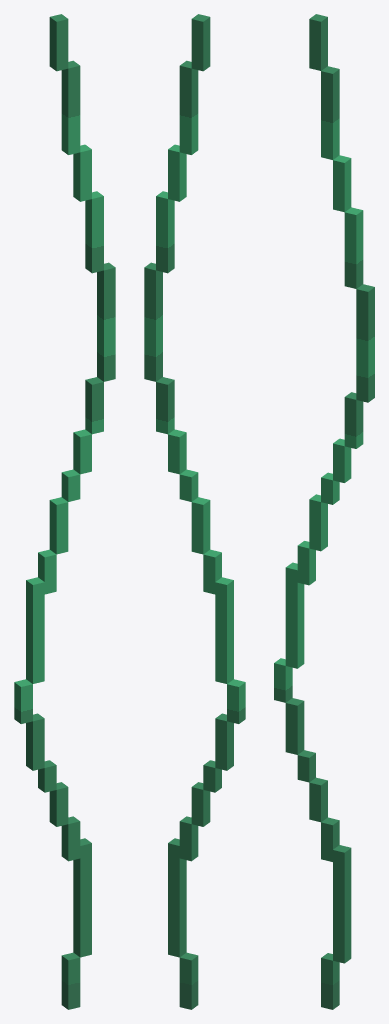
The model's file is vine2.fbx.
The picture shows the model from 3 angles, left to right: view 1: azimuth 30°, elevation 25°; view 2: azimuth 150°, elevation 25°; view 3: azimuth 330°, elevation 25°; orthographic projection.
Visible parts, largest first — view 1: vine2; view 2: vine2; view 3: vine2.
Part boxes in pixels (x1,y1,x2,y2): vine2: (14,14,115,1009); vine2: (144,14,245,1009); vine2: (274,14,374,1009).
Bounding box in the file's own units: 8 × 80 × 1.
Materials: 1 (1 with a texture image).
